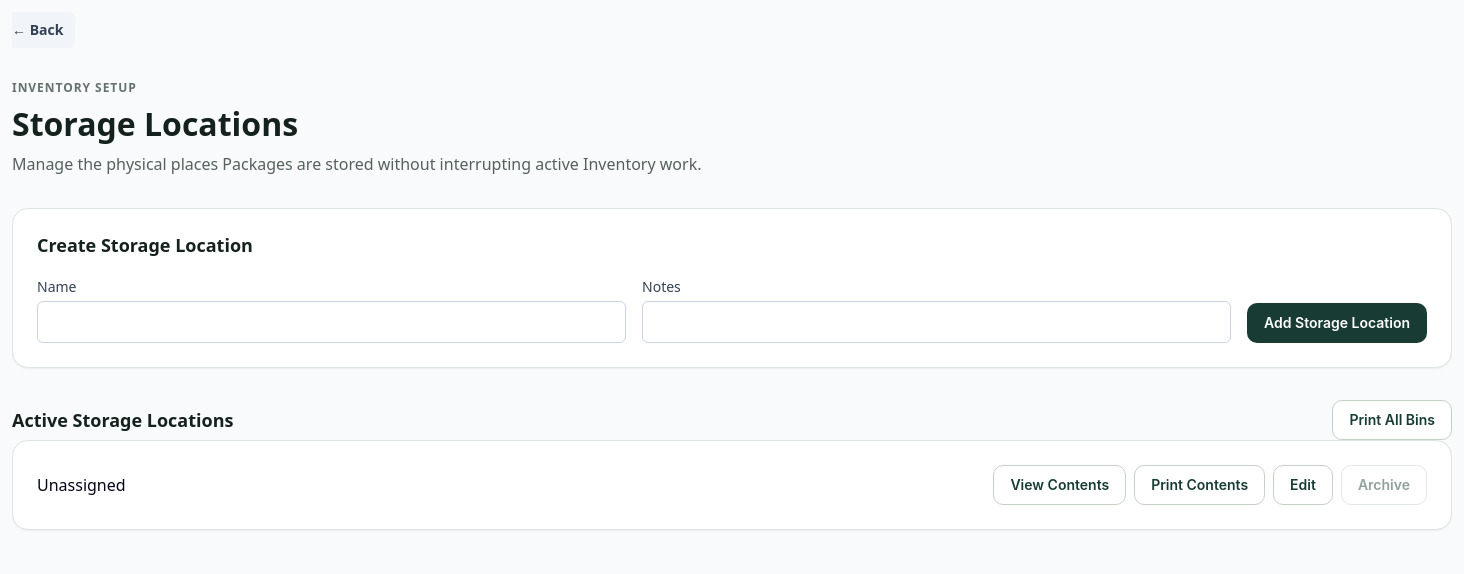
Test: StorageLocationsPage › edits Unassigned's notes without sending a rename
Expected: the heading "Unassigned" is shown, [37,473,126,497]
Click the button "Edit".
click(1303, 485)  # box [1273,465,1333,505]
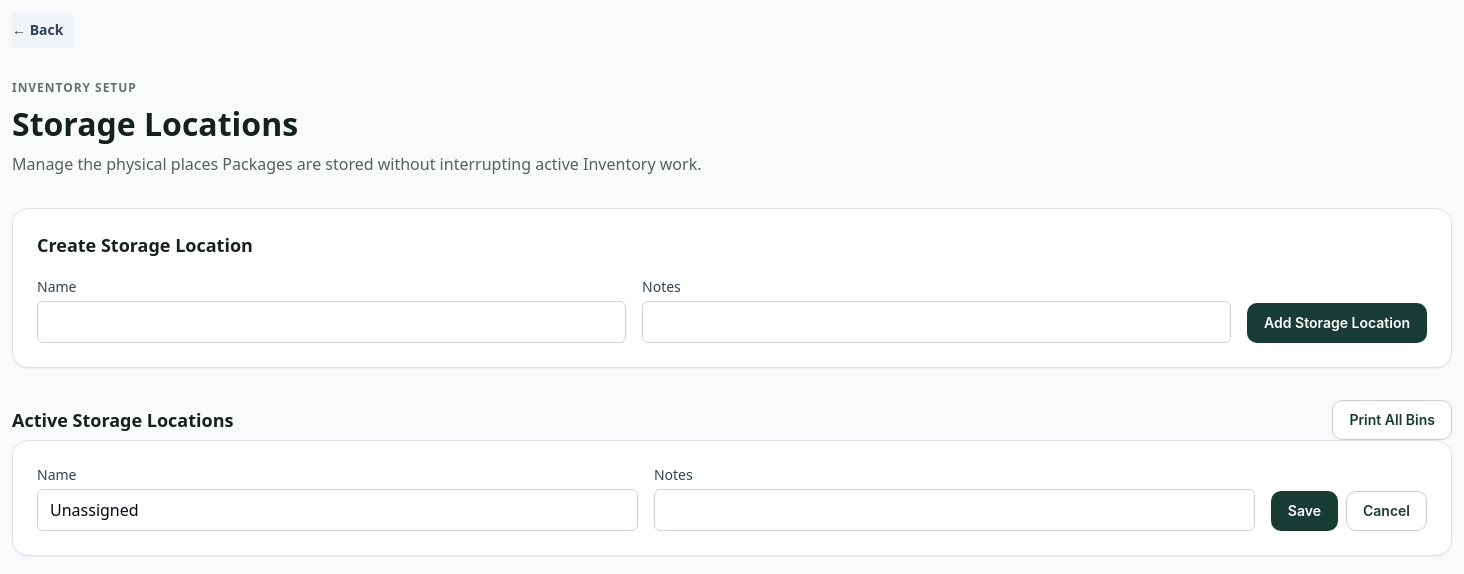
Now the field labelled "Name" below "Active Storage Locations" is disabled, box [37,489,638,531]
Type "Default fallback bin" into the 2nd field labelled "Notes".
click(954, 510); type("Default fallback bin")  # box [654,489,1255,531]
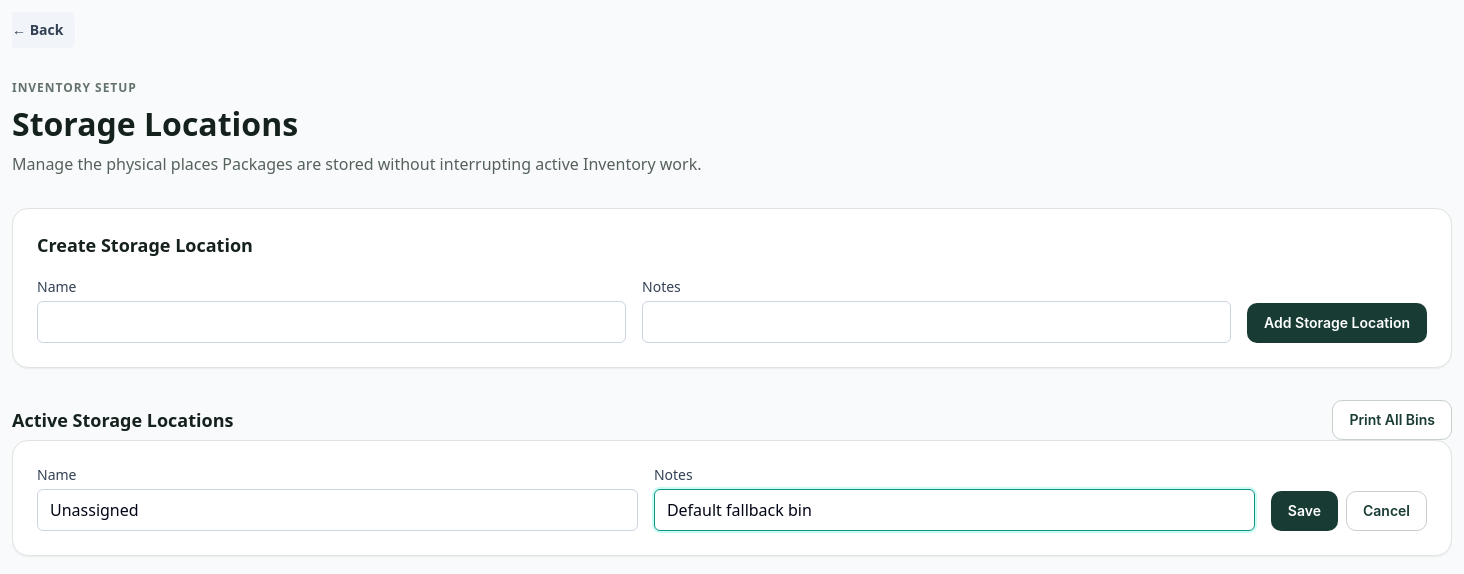
Click the button "Save".
click(1304, 511)  # box [1271,491,1338,531]
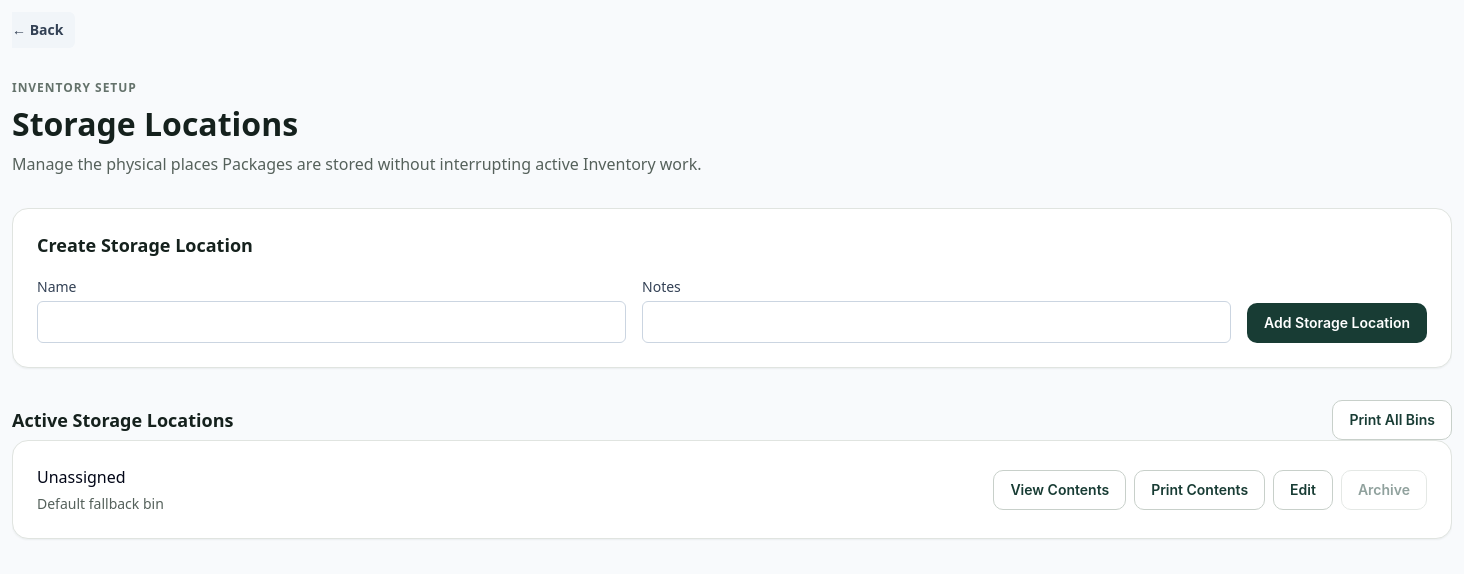
Now the text "Default fallback bin" is shown, box [37,493,164,514]
